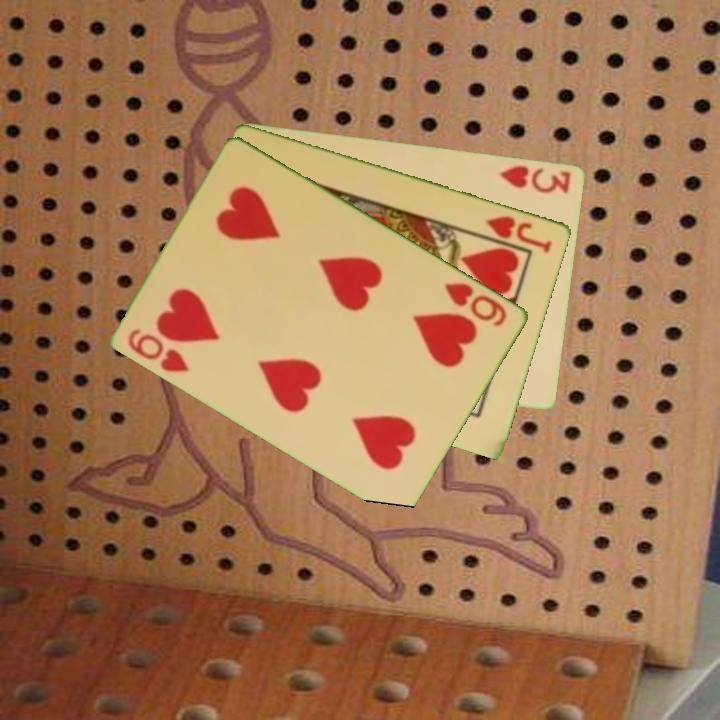3h: (496, 161, 574, 196)
6h: (124, 324, 193, 376), (441, 278, 511, 329)
Jh: (482, 212, 556, 256)
